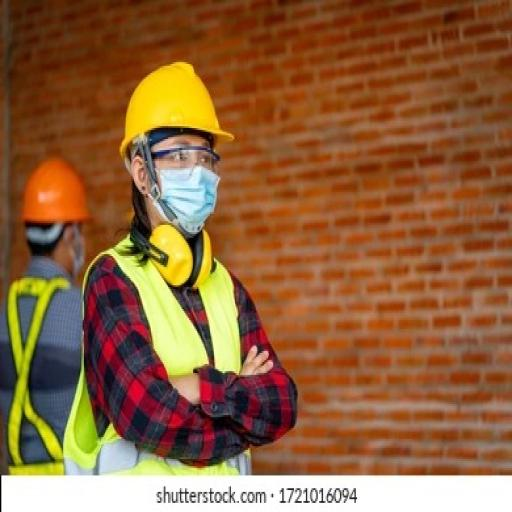mask: (159, 167, 233, 240)
